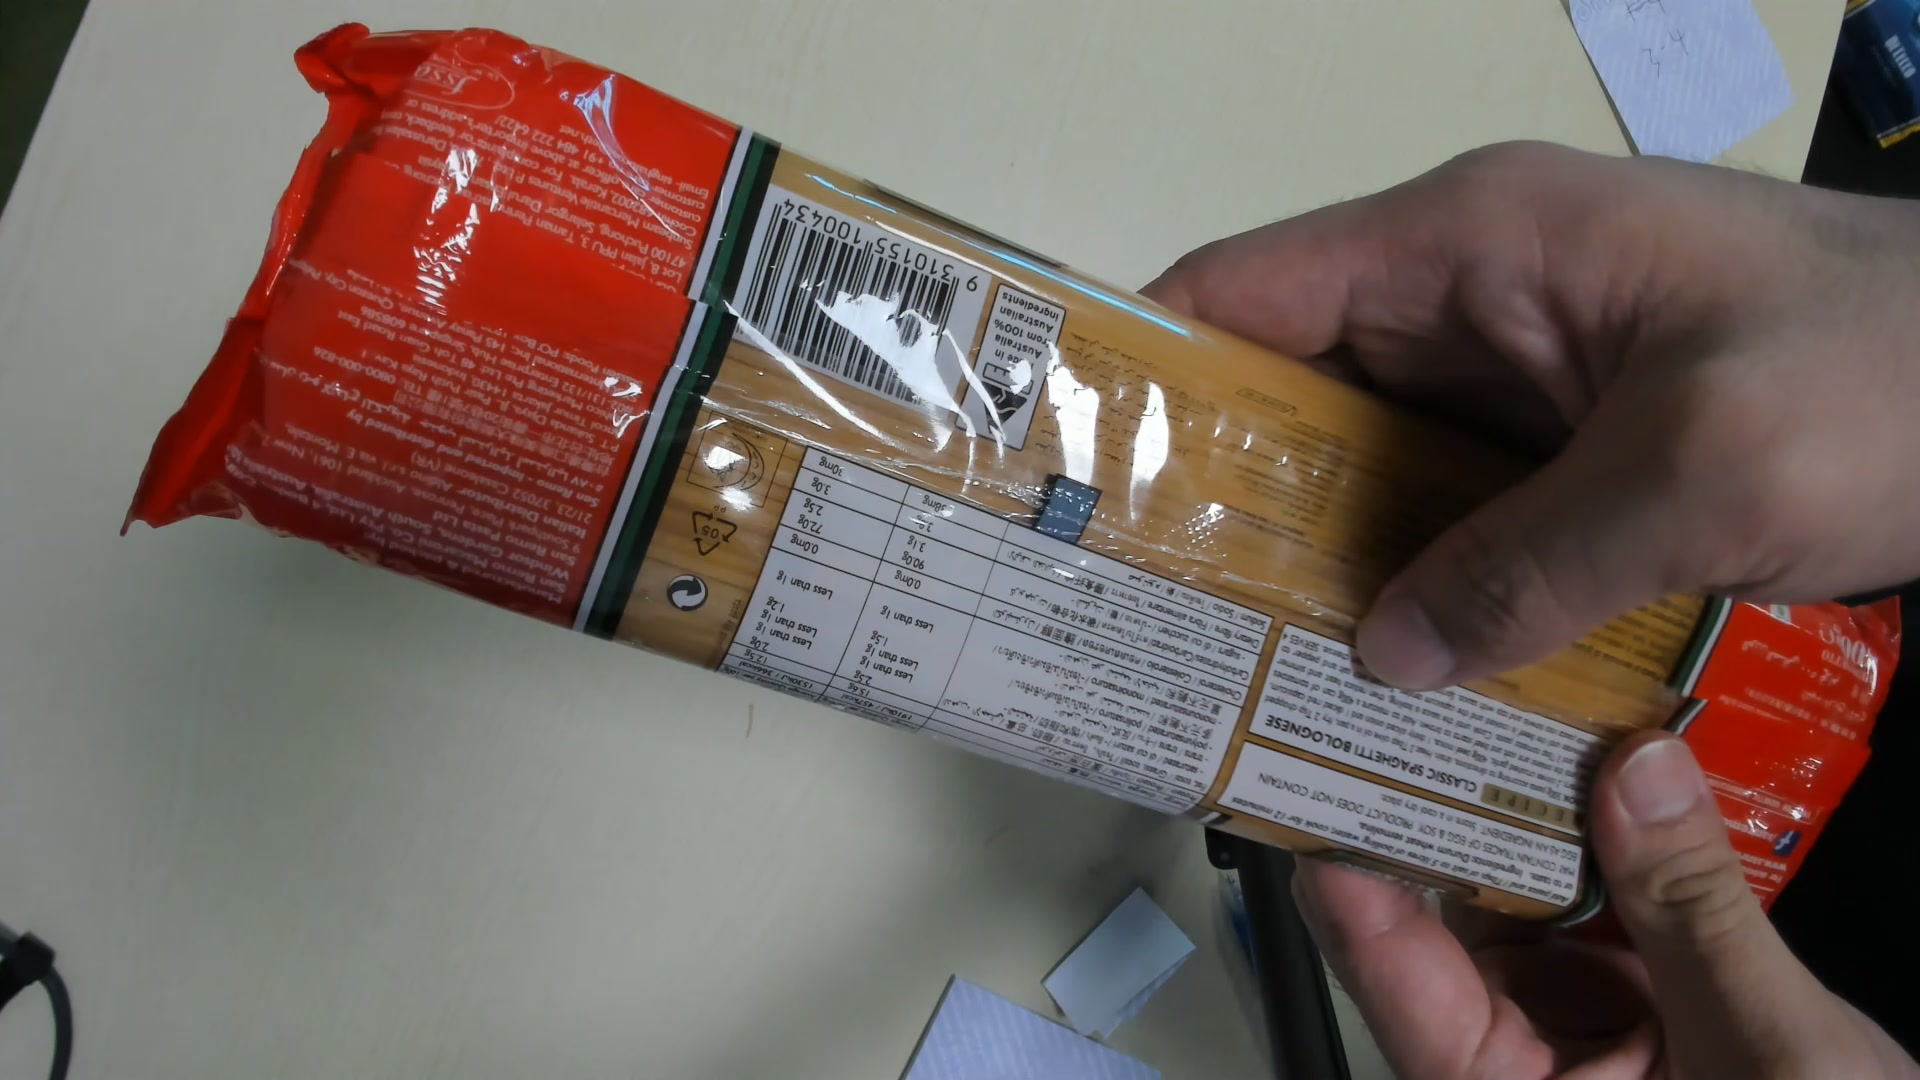Pasta_500-599g_Halal_NonHealthy: (120, 42, 1909, 934)
